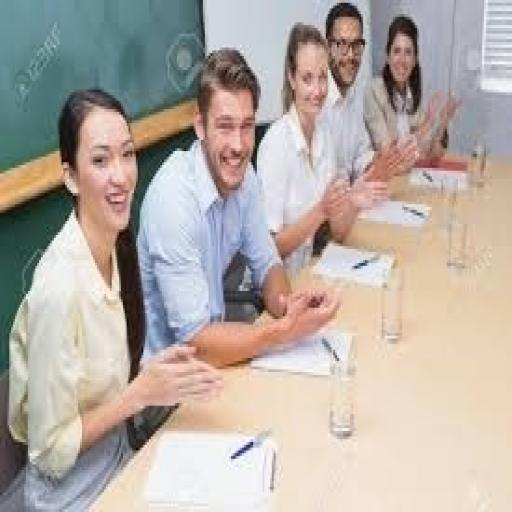clapping: (4, 84, 223, 509), (134, 45, 343, 369), (253, 20, 361, 282), (361, 11, 460, 168)
